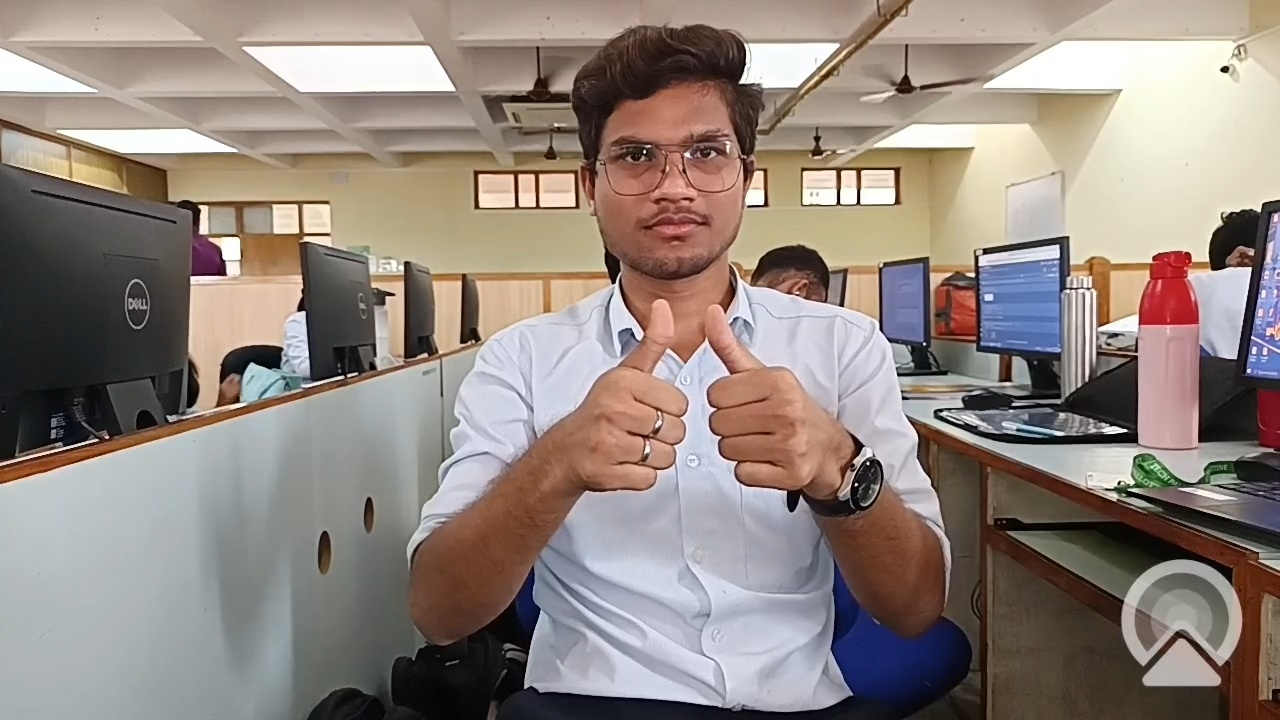A: (517, 291, 900, 549)
